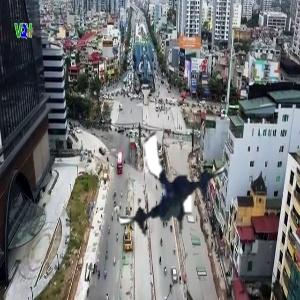drone: (107, 115, 237, 245)
